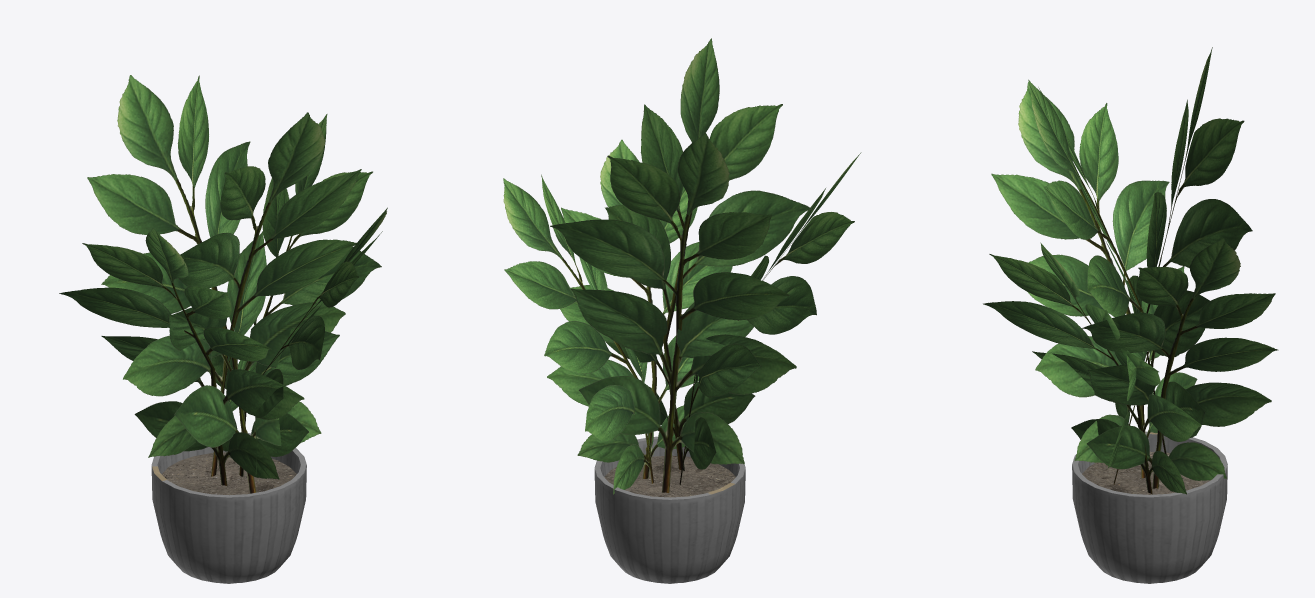
The model's file is HH_Potted_Plant_02.fbx.
3 views of the same model, side by side, from view 1: azimuth 30°, elevation 25°; view 2: azimuth 150°, elevation 25°; view 3: azimuth 270°, elevation 25° (orthographic). The views are drawn at different scales.
Visible parts, largest first — view 1: HH_Potted_Plant_02_LOD0; view 2: HH_Potted_Plant_02_LOD0; view 3: HH_Potted_Plant_02_LOD0.
Part boxes in pixels (bbox=[...]): HH_Potted_Plant_02_LOD0: bbox=[59, 75, 387, 583]; HH_Potted_Plant_02_LOD0: bbox=[503, 38, 861, 583]; HH_Potted_Plant_02_LOD0: bbox=[983, 47, 1278, 583].
Size of what is drawn, in the model's own units: 106 by 129 by 86.8.
